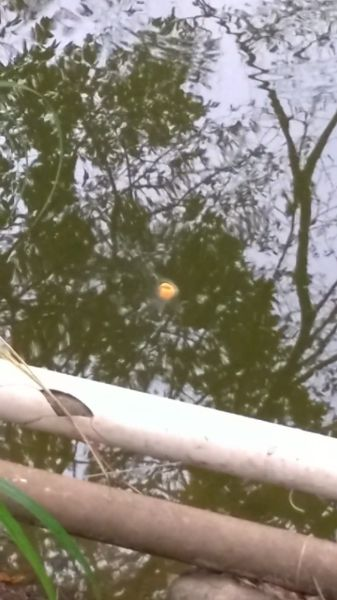eggs: (152, 278, 182, 303)
